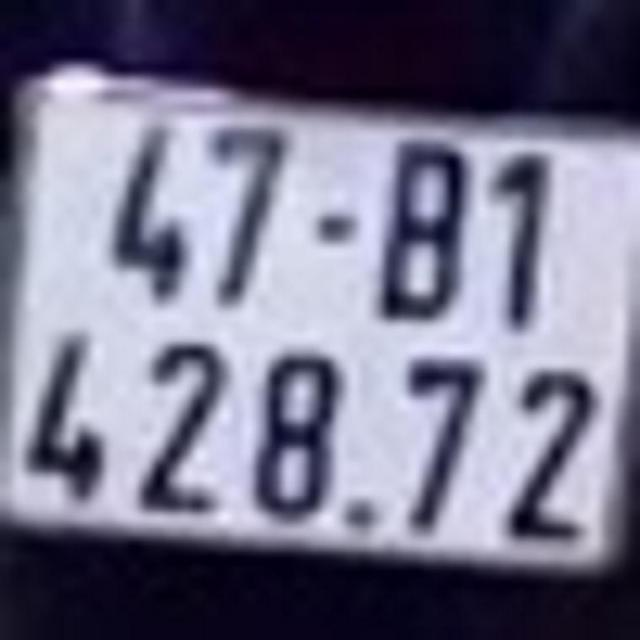1: (482, 131, 553, 335)
2: (504, 361, 599, 545), (133, 333, 227, 510)
4: (105, 116, 199, 302), (20, 320, 116, 499)
7: (394, 348, 489, 540), (205, 115, 294, 312)
8: (251, 340, 340, 516)
B: (381, 126, 468, 324)
